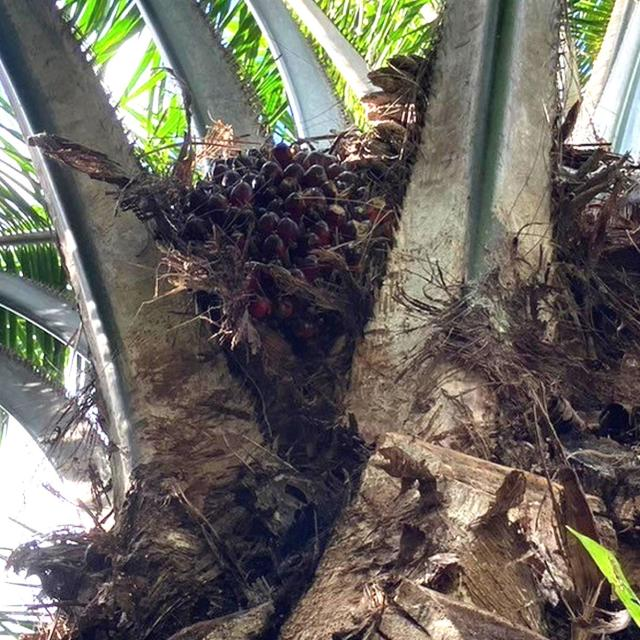ripe: (142, 123, 425, 407)
